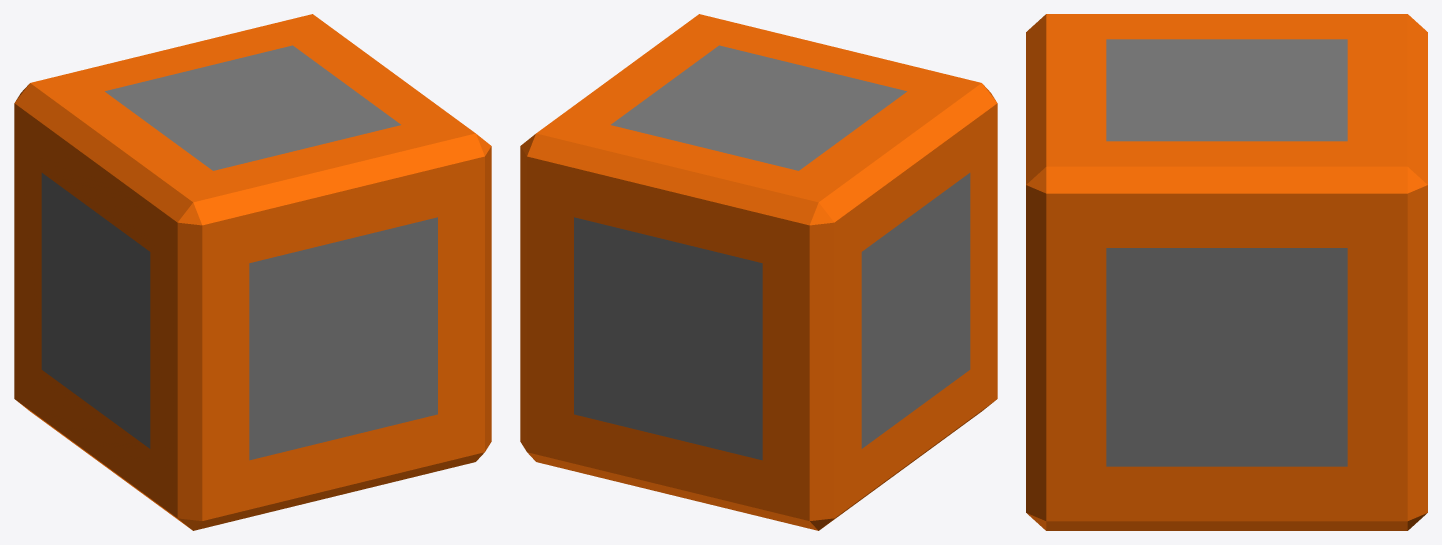
The model's file is stone-10.glb.
3 renders of one model, left to right at view 1: azimuth 30°, elevation 25°; view 2: azimuth 150°, elevation 25°; view 3: azimuth 270°, elevation 25°, orthographic. The views are drawn at different scales.
Visible parts, largest first — view 1: m.base, y-Cube, x-Cube, z-Cube; view 2: m.base, y-Cube, x-Cube, z-Cube; view 3: m.base, x-Cube, z-Cube.
Boxes of the visible parts, x1,y1,x2,y2 form: m.base: (14, 14, 491, 530); y-Cube: (249, 217, 437, 460); x-Cube: (41, 173, 150, 448); z-Cube: (105, 45, 400, 170); m.base: (520, 14, 997, 530); y-Cube: (574, 217, 762, 460); x-Cube: (861, 173, 970, 448); z-Cube: (611, 45, 906, 170); m.base: (1026, 14, 1427, 530); x-Cube: (1106, 248, 1347, 466); z-Cube: (1106, 39, 1347, 141).
Size of the model in its own units: 1 by 1 by 1.
